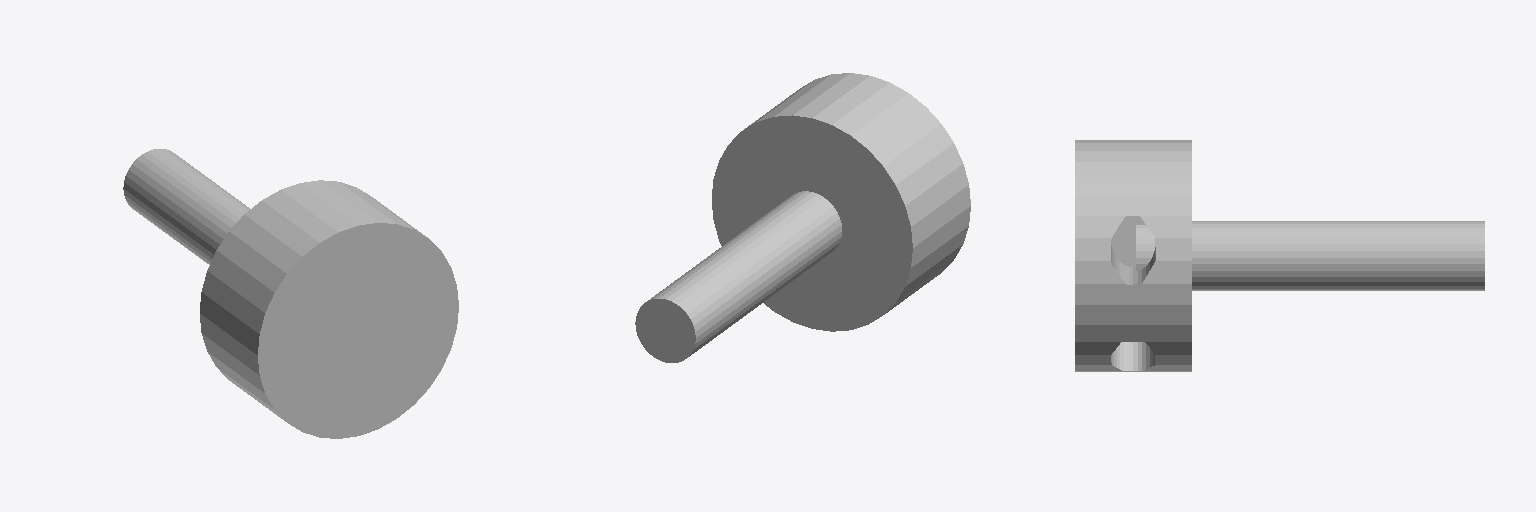
Rendered from scan.obj.
The picture shows the model from 3 angles: view 1: azimuth 30°, elevation 25°; view 2: azimuth 150°, elevation 25°; view 3: azimuth 270°, elevation 25°; orthographic projection.
Visible parts, largest first — view 1: Cylinder.001; view 2: Cylinder.001; view 3: Cylinder.001.
Part boxes in pixels (x1,y1,x2,y2): Cylinder.001: (123,149,458,438); Cylinder.001: (635,73,970,362); Cylinder.001: (1075,140,1484,371).
Size of the model in its own units: 0.2 by 0.2 by 0.3522.